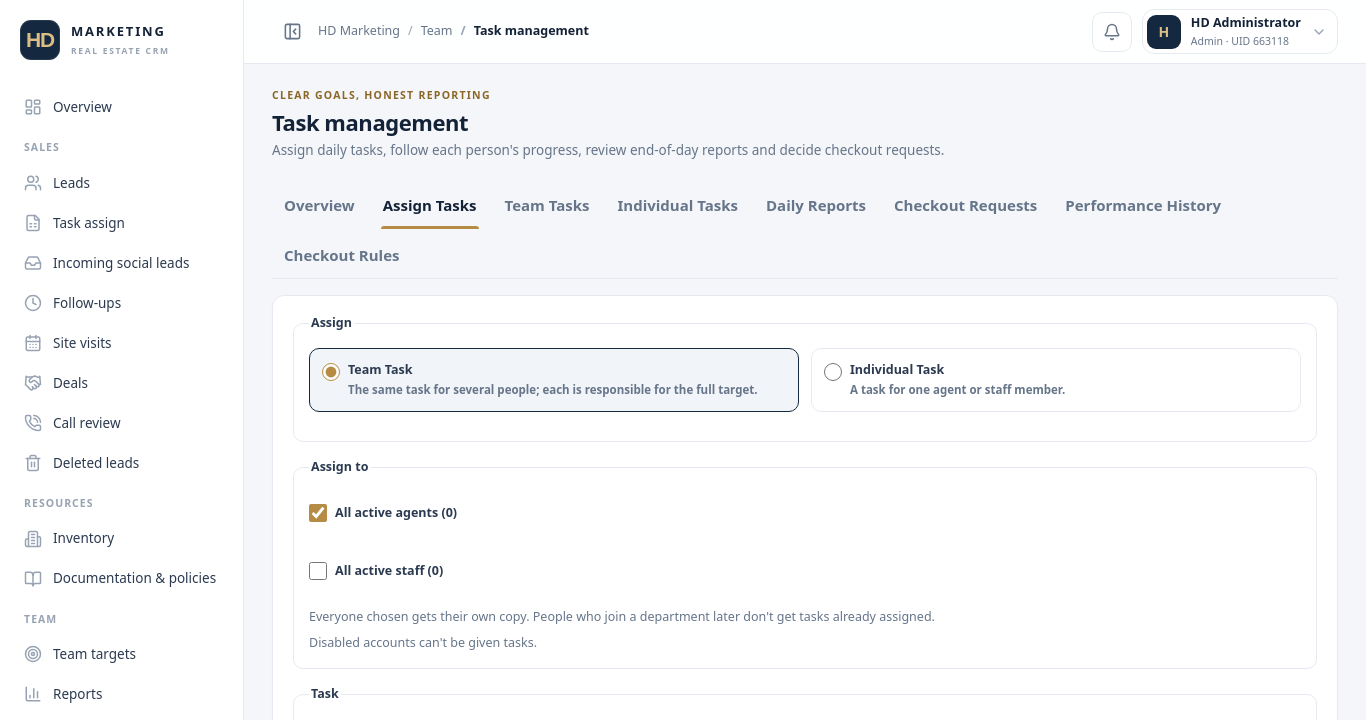
Test case: tasks for staff › offers staff for individual tasks and filters performance by department
The width and height of the screenshot is (1366, 720).
Click the radio button labelled "Individual Task A task for one agent or staff member." at {"x": 833, "y": 372}, box [824,363,842,381]
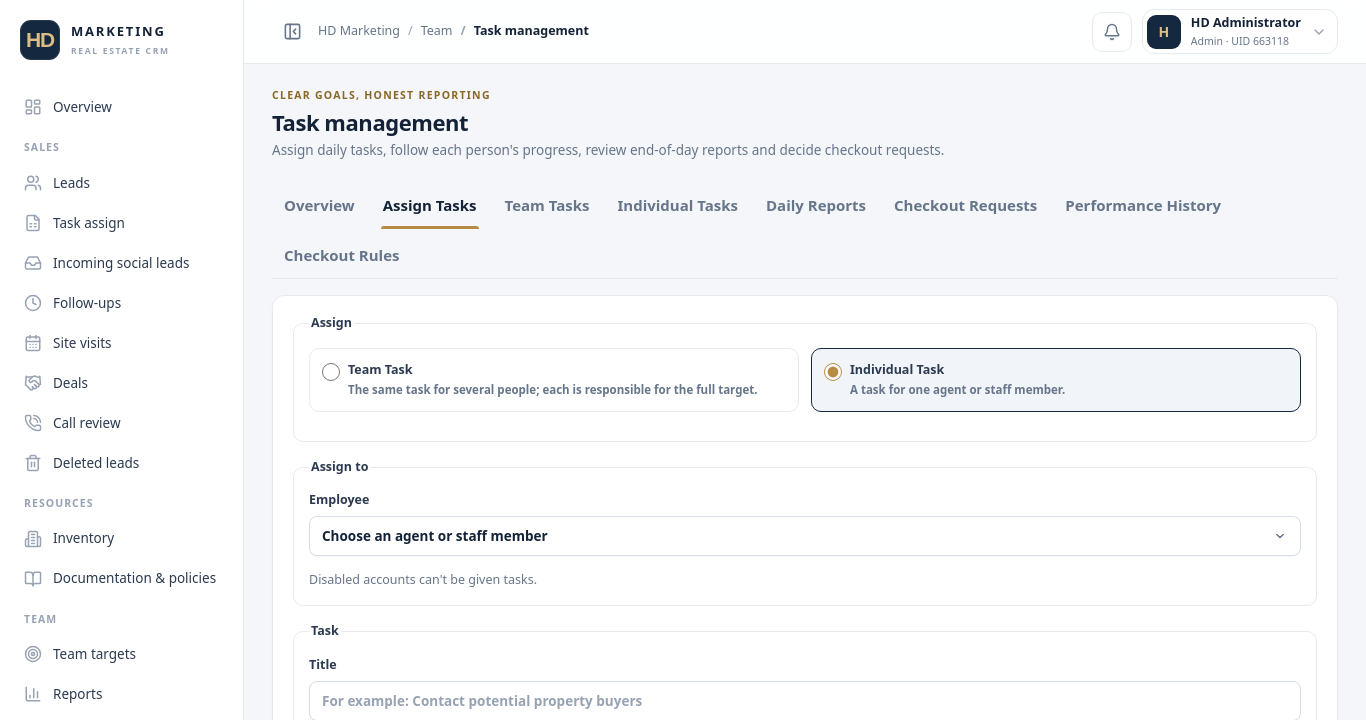
Click the tab "Performance History" at {"x": 1143, "y": 205}, box [1053,182,1233,228]
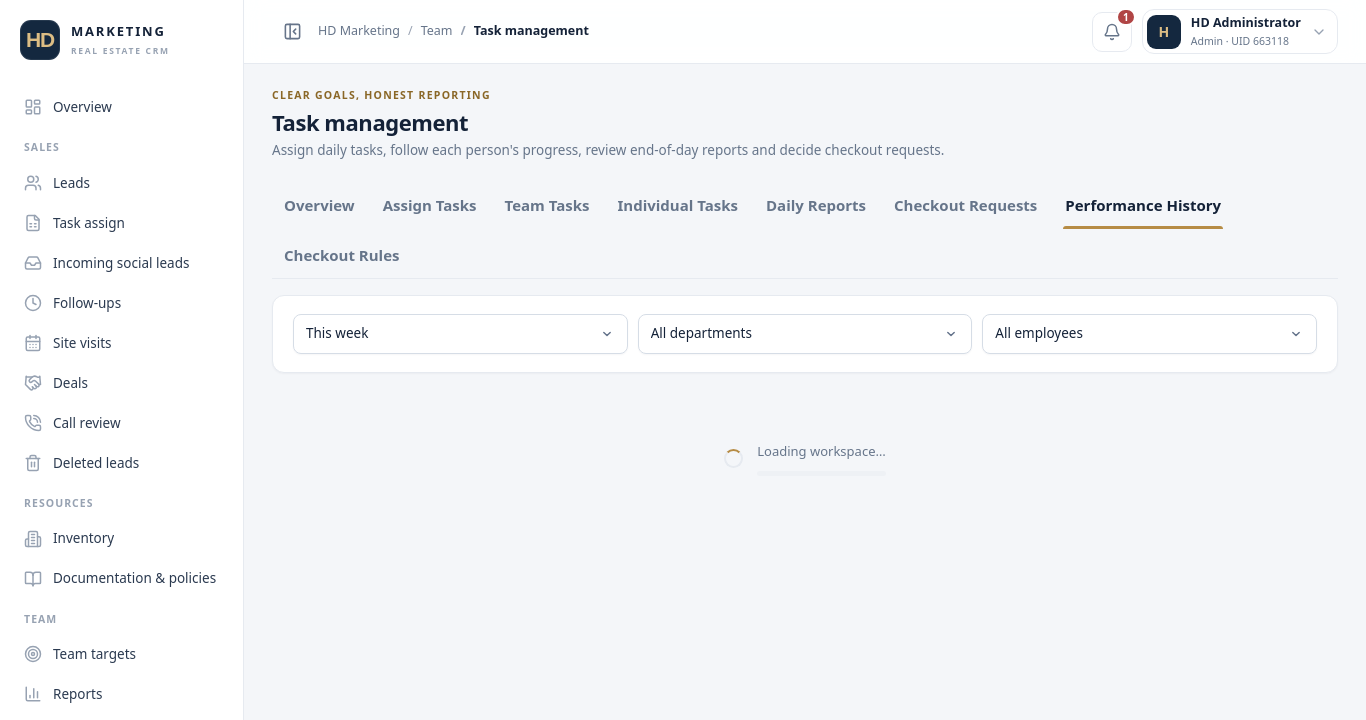
Select "Media" in the dropdown named "Department" at {"x": 805, "y": 334}, box [638,314,972,354]
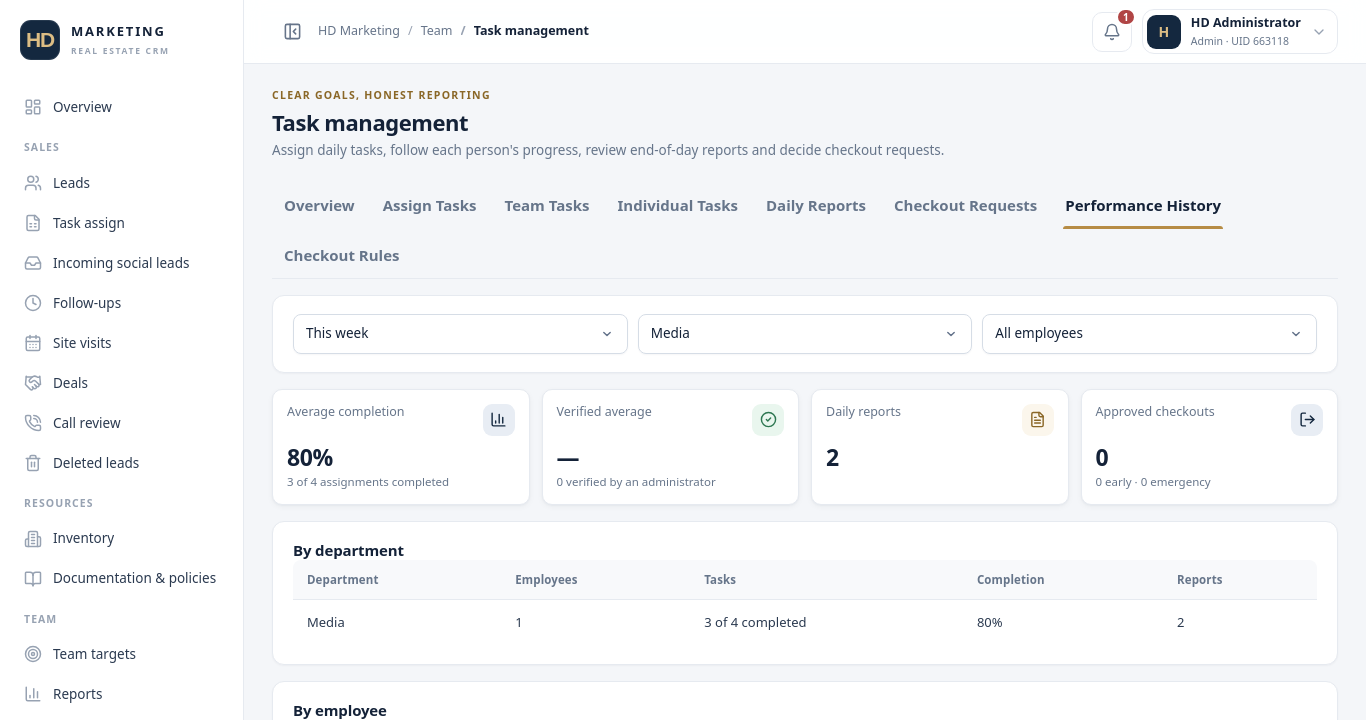
Expected: the heading "By department" is shown, [293,540,404,560]
